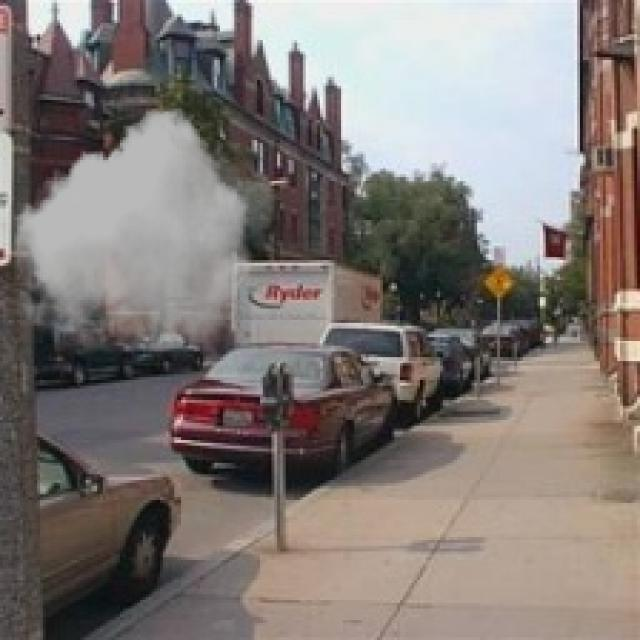Smoke: (8, 108, 283, 352)
